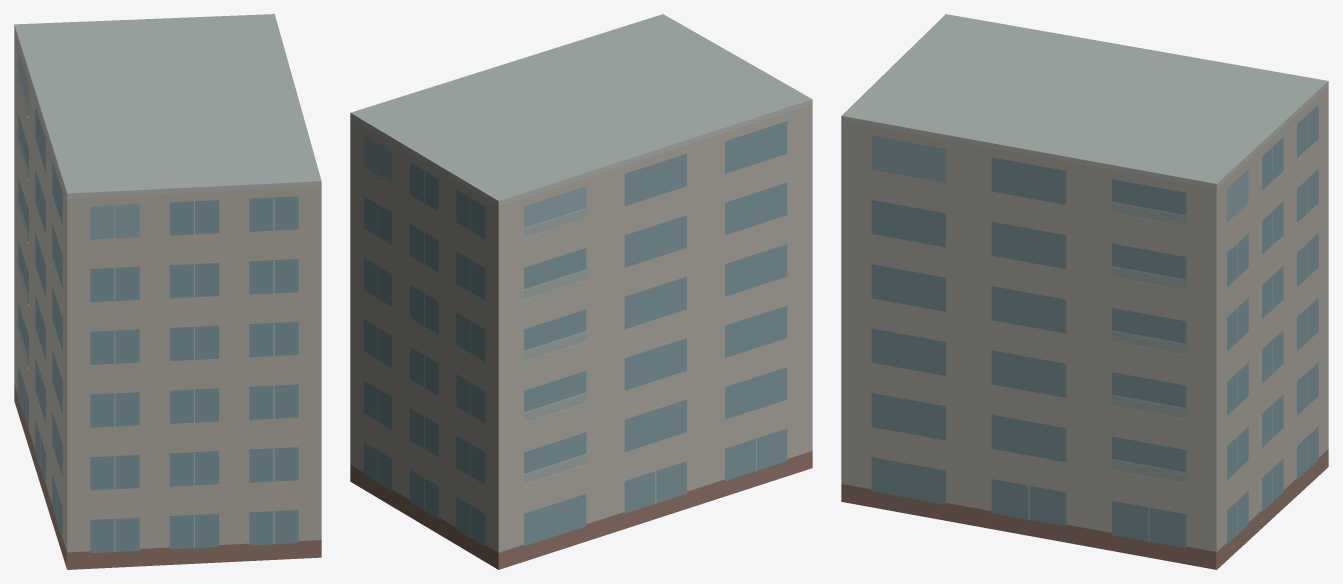
Rendered from survey-upis-32844540.glb.
3 views of the same model, side by side, from view 1: azimuth 30°, elevation 25°; view 2: azimuth 150°, elevation 25°; view 3: azimuth 270°, elevation 25° (orthographic). The views are drawn at different scales.
Visible parts, largest first — view 1: survey-upis-32844540.tmp; view 2: survey-upis-32844540.tmp; view 3: survey-upis-32844540.tmp.
Part boxes in pixels (<box>): survey-upis-32844540.tmp: <box>14,14,321,569</box>; survey-upis-32844540.tmp: <box>350,14,812,569</box>; survey-upis-32844540.tmp: <box>841,14,1328,569</box>.
Size of the model in its own units: 17.29 by 18.3 by 20.95.
